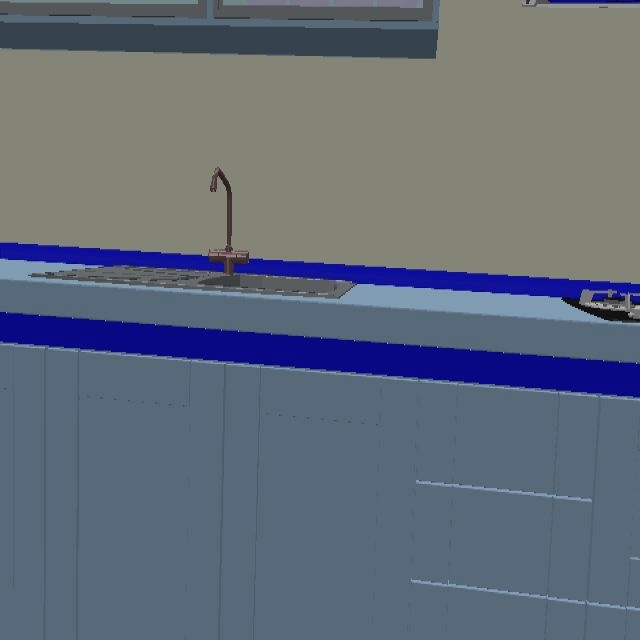countertop: (0, 259, 640, 399)
sink: (51, 168, 357, 299)
stove: (564, 287, 640, 328)
